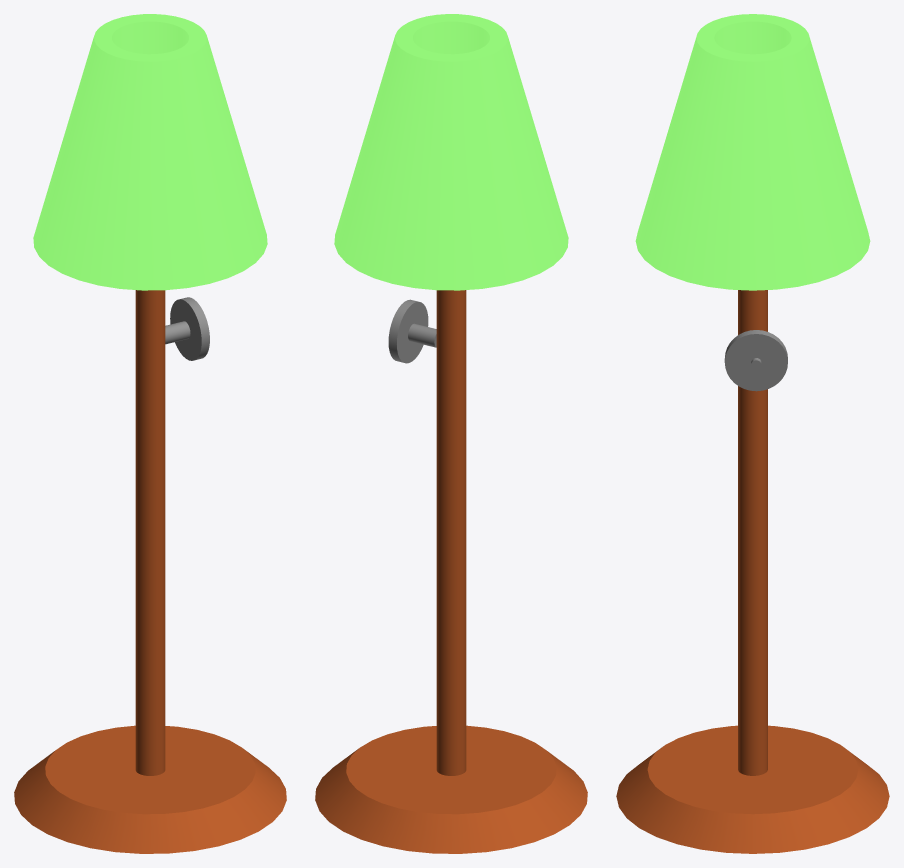
The model's file is alexc_standing_lamp.fbx.
3 views of the same model, side by side, from view 1: azimuth 30°, elevation 25°; view 2: azimuth 150°, elevation 25°; view 3: azimuth 270°, elevation 25° (orthographic).
Parts seen in each view (by area): view 1: standing_lamp; view 2: standing_lamp; view 3: standing_lamp.
Boxes of the visible parts, x1=… form: standing_lamp: x1=14, y1=14, x2=286, y2=853; standing_lamp: x1=315, y1=14, x2=587, y2=853; standing_lamp: x1=616, y1=14, x2=889, y2=853.
Size of the model in its own units: 200 by 200 by 612.
